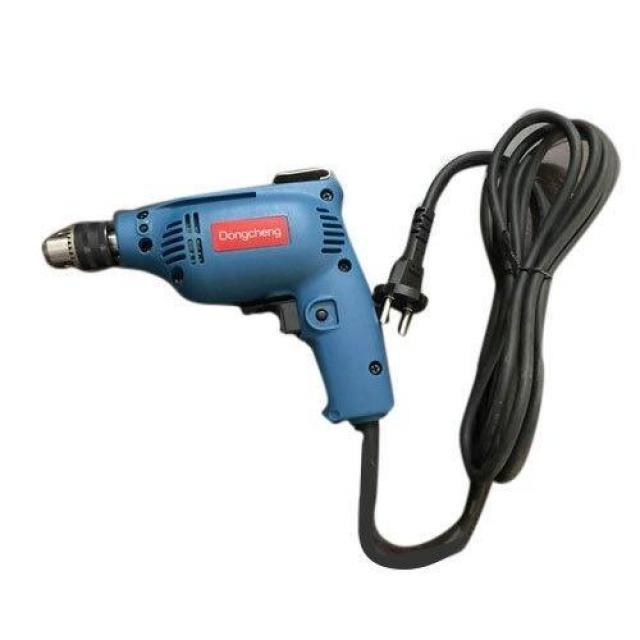drill: (40, 168, 396, 432)
